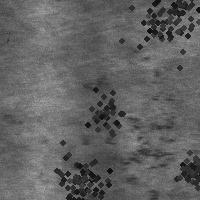rolled-in_scale: (117, 94, 181, 198), (121, 0, 199, 62), (43, 140, 117, 200), (76, 82, 134, 140), (73, 133, 115, 200), (144, 0, 200, 40), (172, 147, 200, 187)
